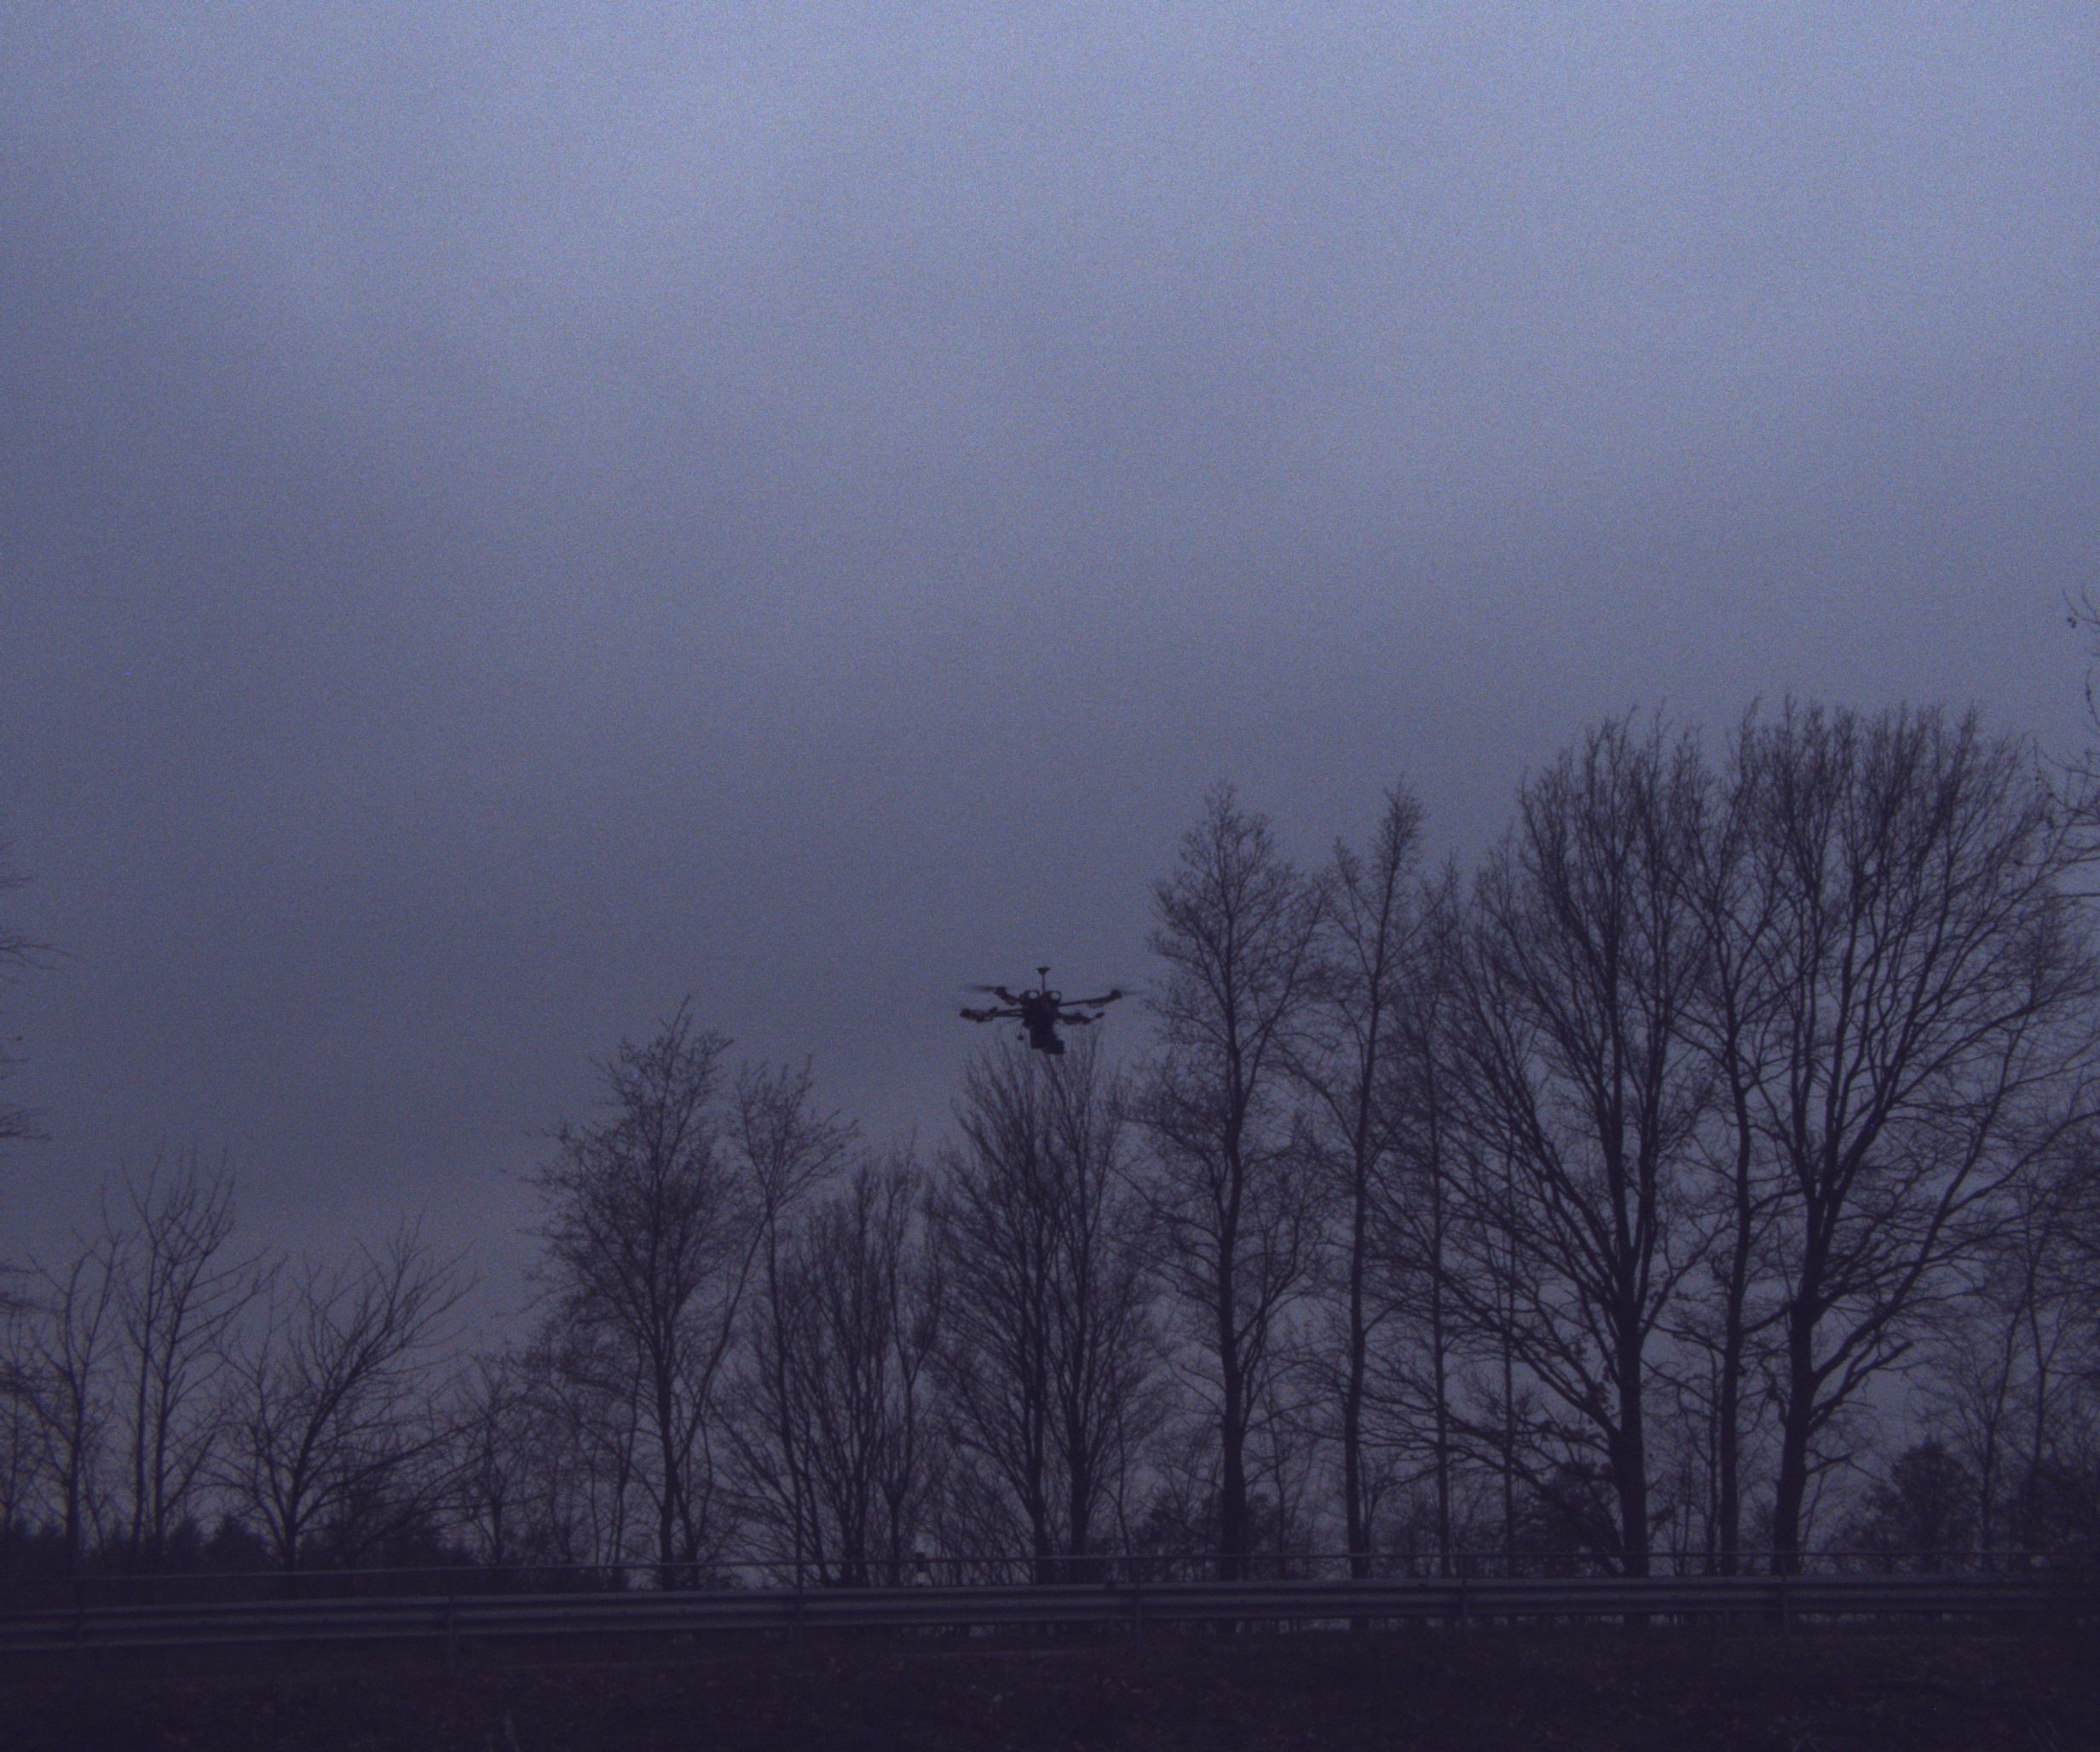Drohne: (902, 955, 1179, 1079)
